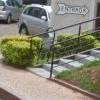stairs: (19, 46, 99, 77)
